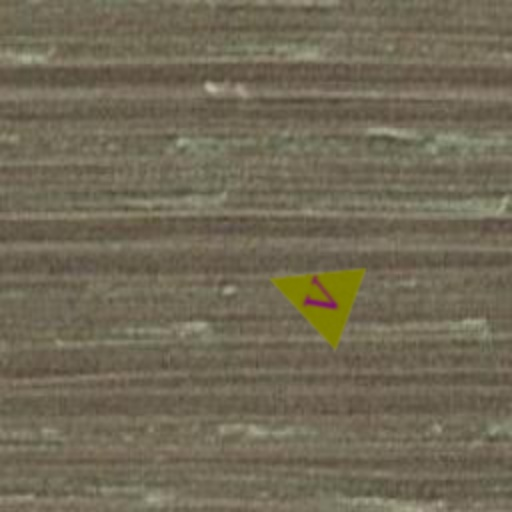triangle: (252, 236, 368, 352)
